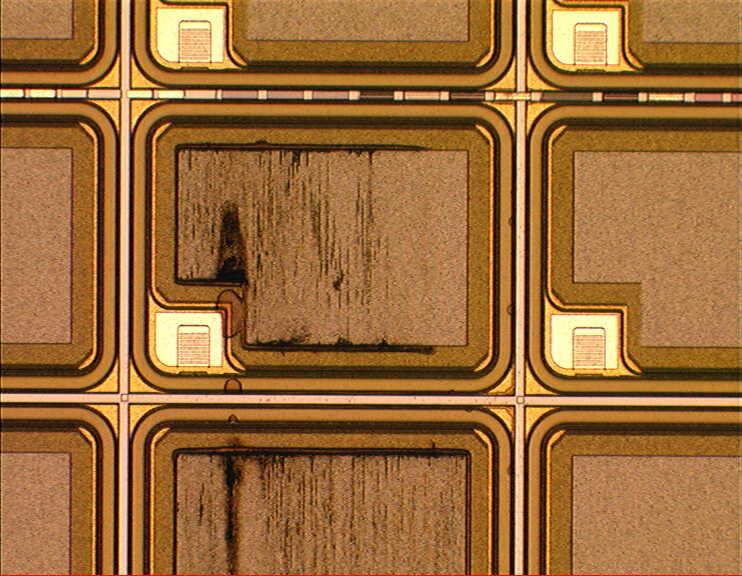SEZ BURNT: (173, 146, 469, 576)
